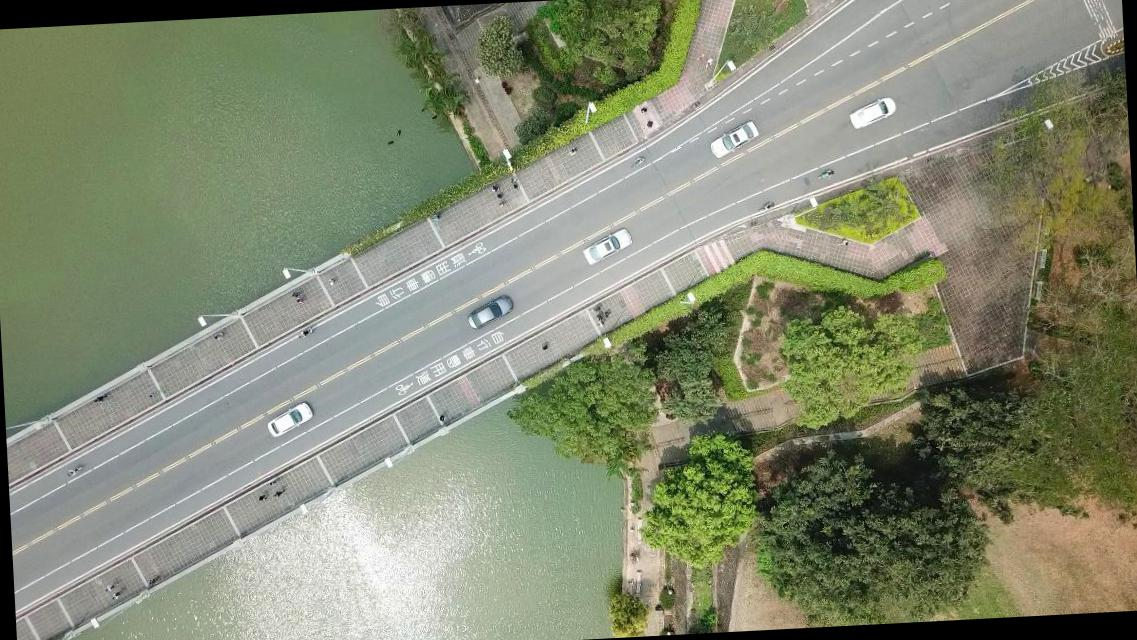vehicle: (580, 228, 634, 268), (709, 120, 759, 160), (465, 294, 514, 332), (265, 399, 313, 437), (846, 97, 896, 130)
